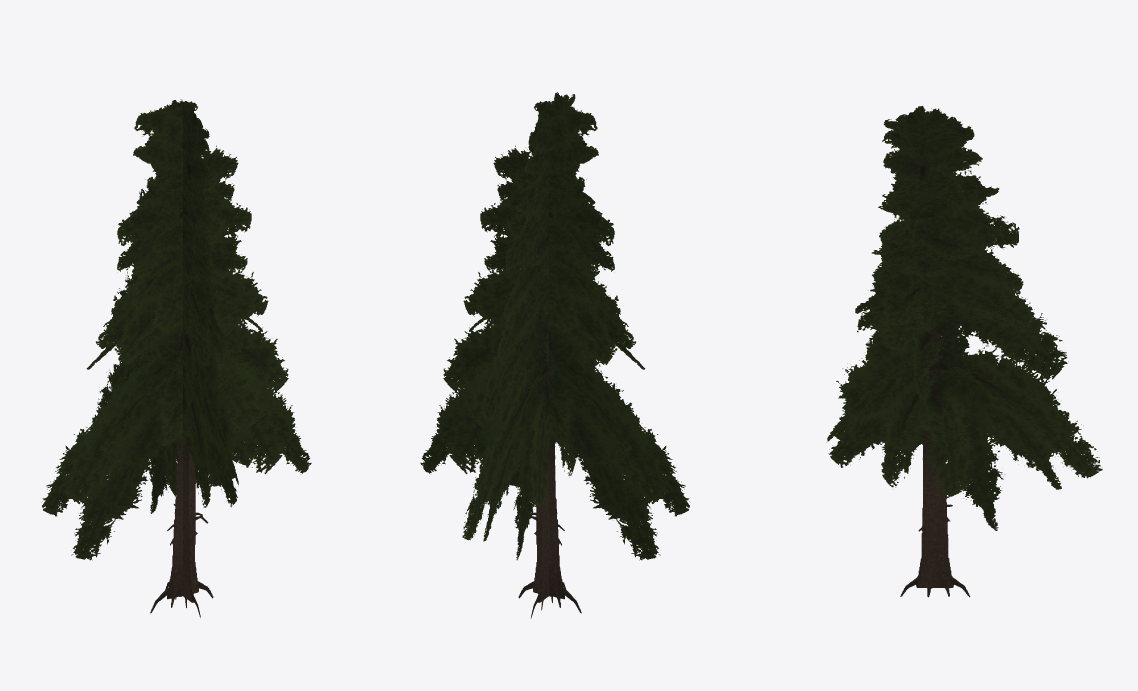
The model's file is pine_b_billboard.glb.
3 renders of one model, left to right at view 1: azimuth 30°, elevation 25°; view 2: azimuth 150°, elevation 25°; view 3: azimuth 270°, elevation 25°, orthographic. The views are drawn at different scales.
Visible parts, largest first — view 1: pine_b_billboard; view 2: pine_b_billboard; view 3: pine_b_billboard.
Part boxes in pixels (x1,y1,x2,y2): pine_b_billboard: (41, 99, 311, 617); pine_b_billboard: (420, 92, 690, 618); pine_b_billboard: (826, 106, 1102, 597).
Bounding box in the file's own units: 11.96 × 17.62 × 11.96.
1 material, 1 textured.
